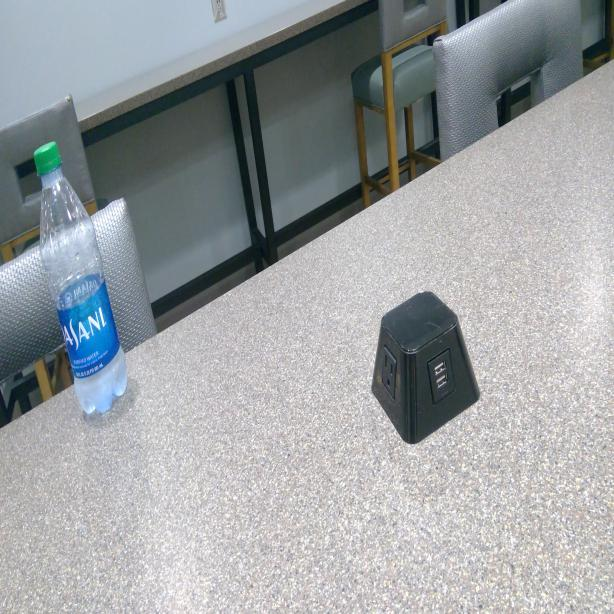typeb: (379, 344, 398, 393), (215, 0, 223, 8)
